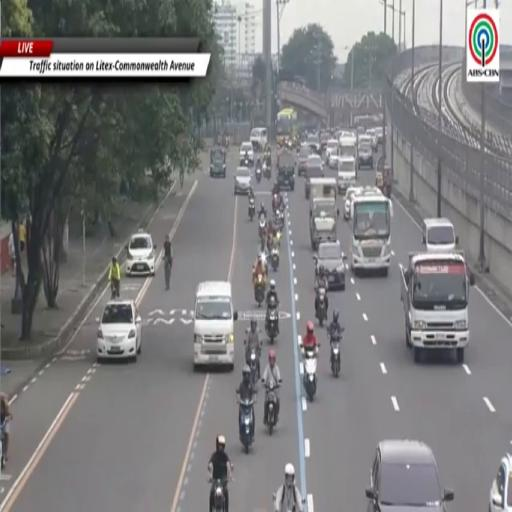bus: (277, 108, 297, 147)
car: (366, 440, 453, 511), (97, 300, 142, 361), (314, 240, 346, 290), (126, 230, 156, 276), (489, 454, 511, 511), (234, 167, 252, 195), (358, 140, 373, 169), (344, 187, 357, 220), (250, 127, 267, 150), (326, 139, 339, 168), (240, 141, 254, 167), (298, 146, 310, 175), (307, 135, 321, 154), (366, 128, 377, 151), (307, 154, 323, 169), (319, 132, 330, 151), (375, 126, 383, 143), (357, 126, 365, 135)
motorcycle: (301, 345, 317, 401), (239, 398, 254, 453), (265, 381, 279, 435), (330, 330, 343, 377), (265, 304, 279, 344), (316, 287, 327, 327), (249, 348, 259, 391), (213, 479, 226, 511), (0, 416, 7, 470), (254, 275, 265, 307), (259, 214, 266, 244), (273, 211, 284, 230), (271, 247, 279, 271), (111, 280, 119, 299), (249, 197, 255, 221), (273, 194, 279, 214), (255, 168, 262, 184), (264, 165, 271, 180), (224, 136, 229, 148), (244, 157, 249, 167), (273, 493, 276, 506)
truck: (400, 251, 474, 363), (349, 187, 392, 276), (310, 198, 339, 250), (309, 178, 337, 215), (337, 156, 357, 195), (277, 149, 295, 190)
